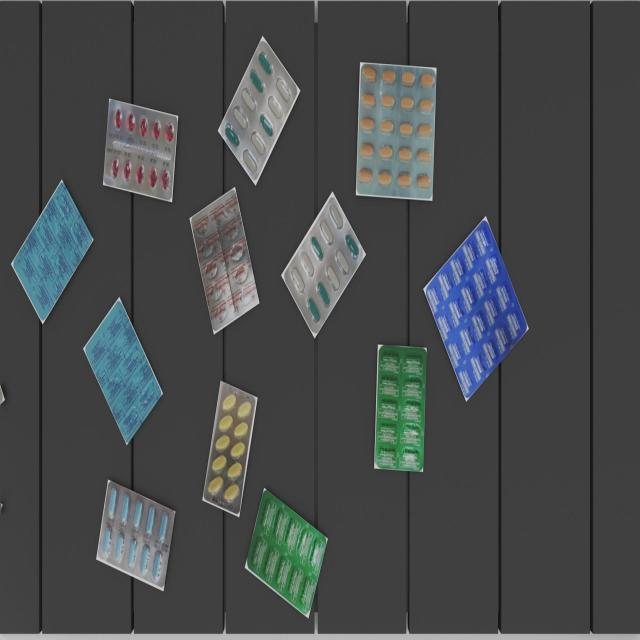blister: (424, 217, 527, 400), (86, 296, 167, 446), (13, 183, 93, 328), (356, 62, 437, 200), (222, 38, 298, 184), (284, 196, 363, 336), (247, 489, 325, 619), (193, 186, 259, 332), (97, 476, 177, 595), (104, 99, 177, 200), (205, 380, 255, 517), (376, 341, 427, 469)
